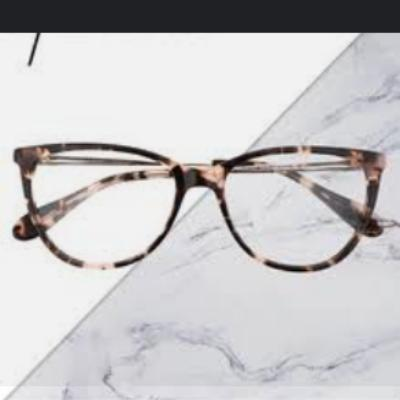glasses: (1, 138, 396, 281)
